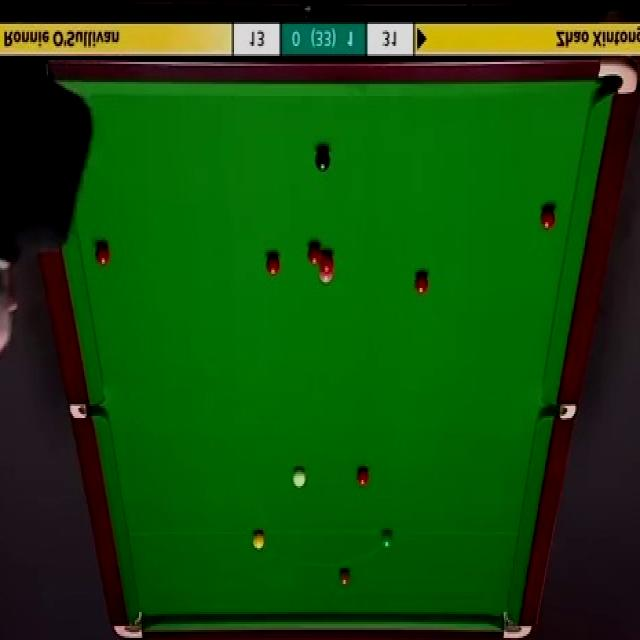black-ball: (314, 147, 331, 174)
brown-ball: (338, 569, 350, 587)
green-ball: (380, 530, 393, 551)
pink-ball: (318, 268, 335, 286)
red-ball: (539, 208, 556, 232), (265, 254, 281, 275), (414, 274, 429, 296), (308, 243, 322, 265), (95, 246, 108, 268), (356, 468, 370, 488), (318, 253, 334, 270)
white-ball: (292, 466, 308, 488)
yellow-ball: (252, 532, 265, 552)
